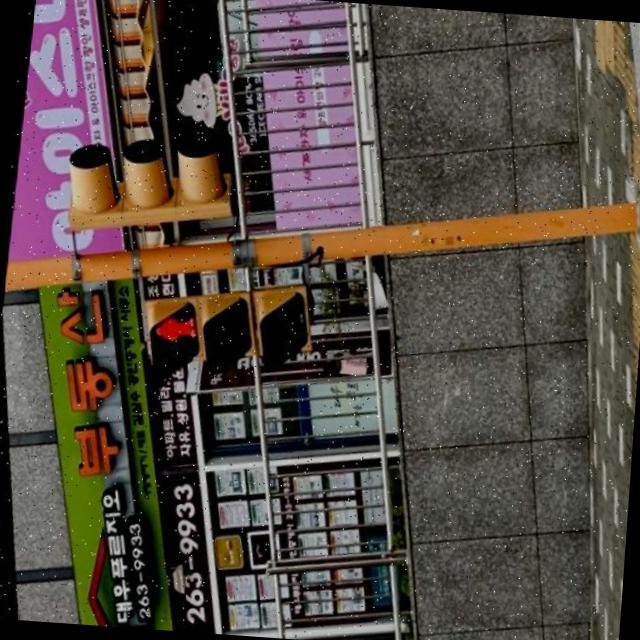red_light: (139, 298, 205, 365)
